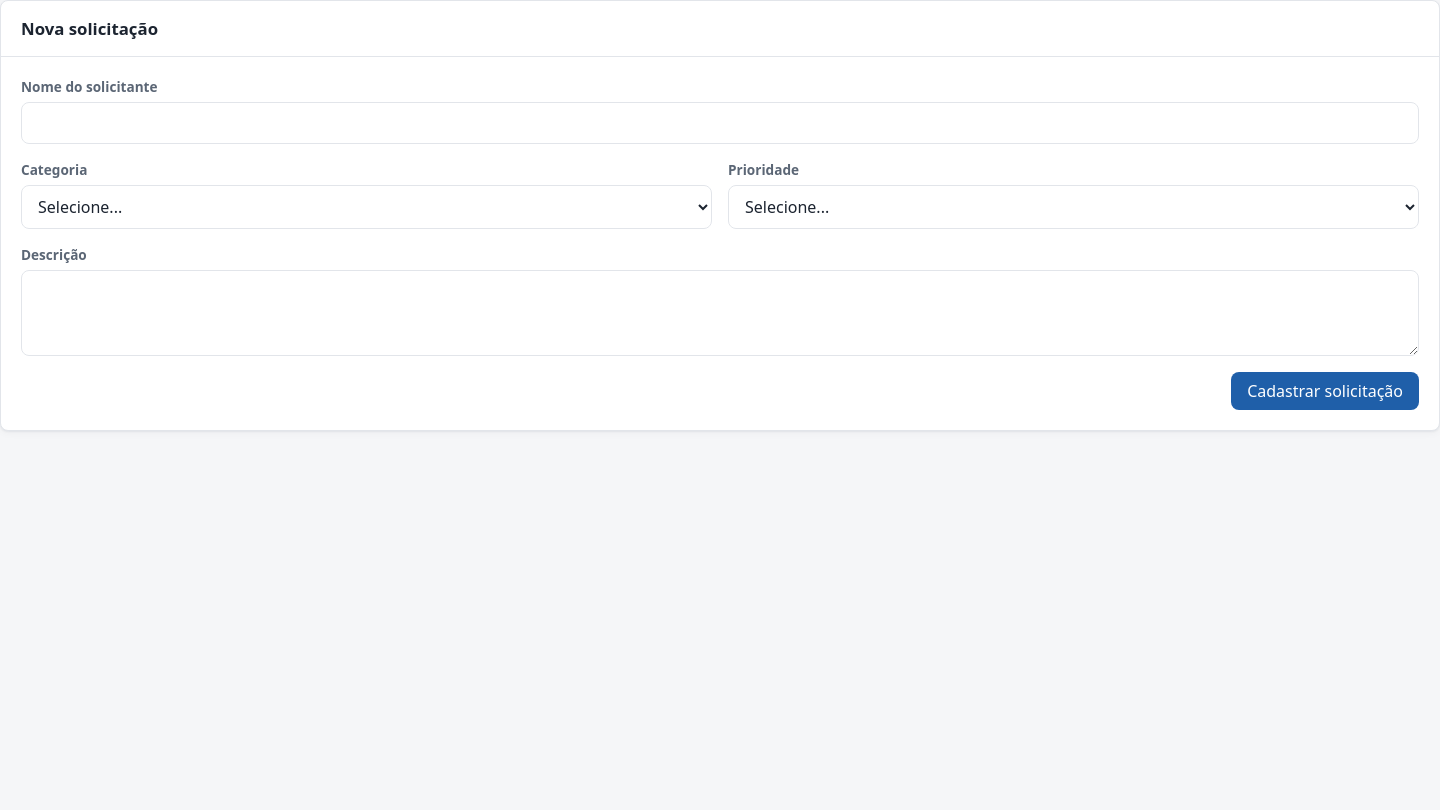
it: FormularioSolicitacao › exige justificativa quando a prioridade e urgente
In the field labelled "Nome do solicitante": (720, 123) x1=21 y1=102 x2=1419 y2=144, type "Maria Ficticia"
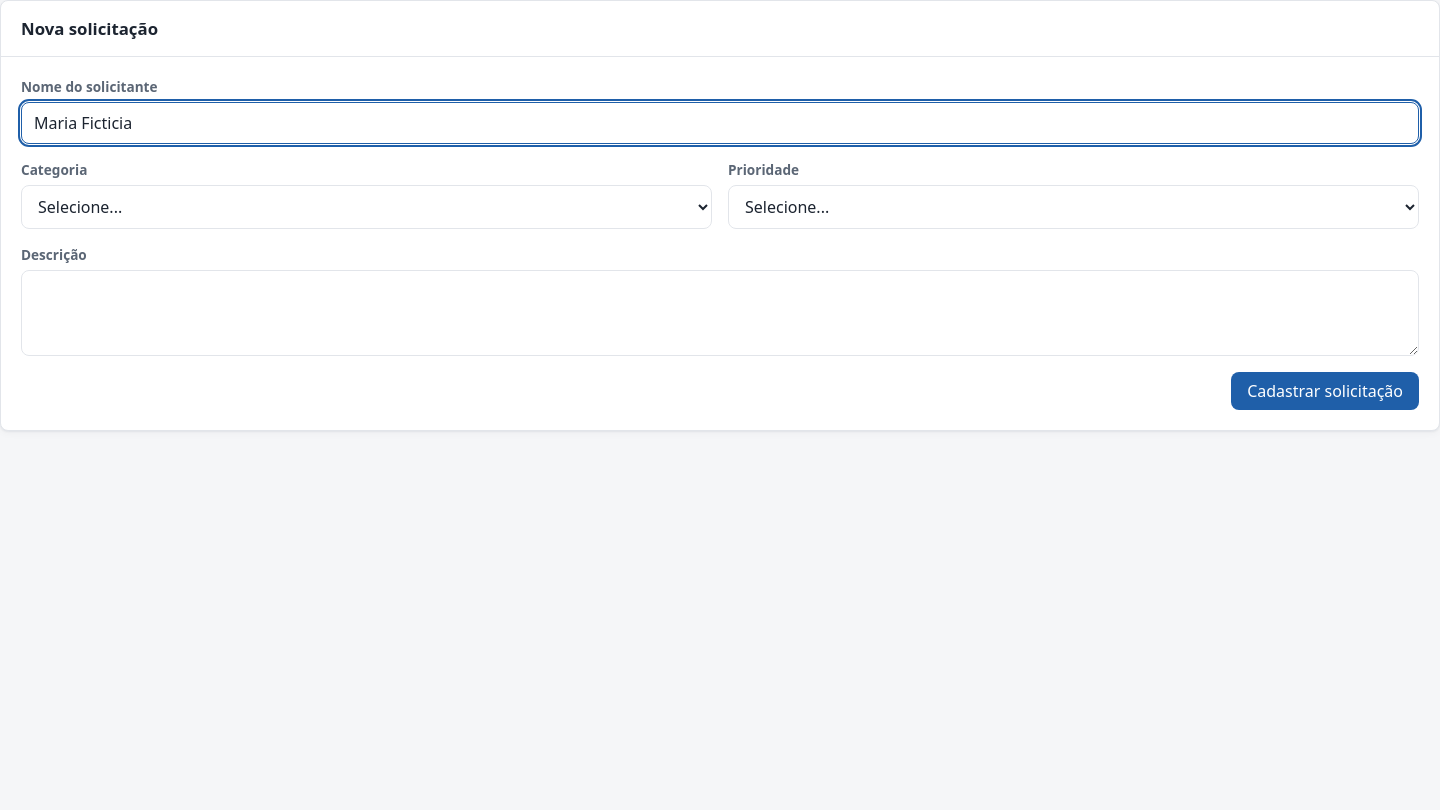
Select "Exame" in the dropdown labelled "Categoria": (366, 207) x1=21 y1=185 x2=712 y2=229
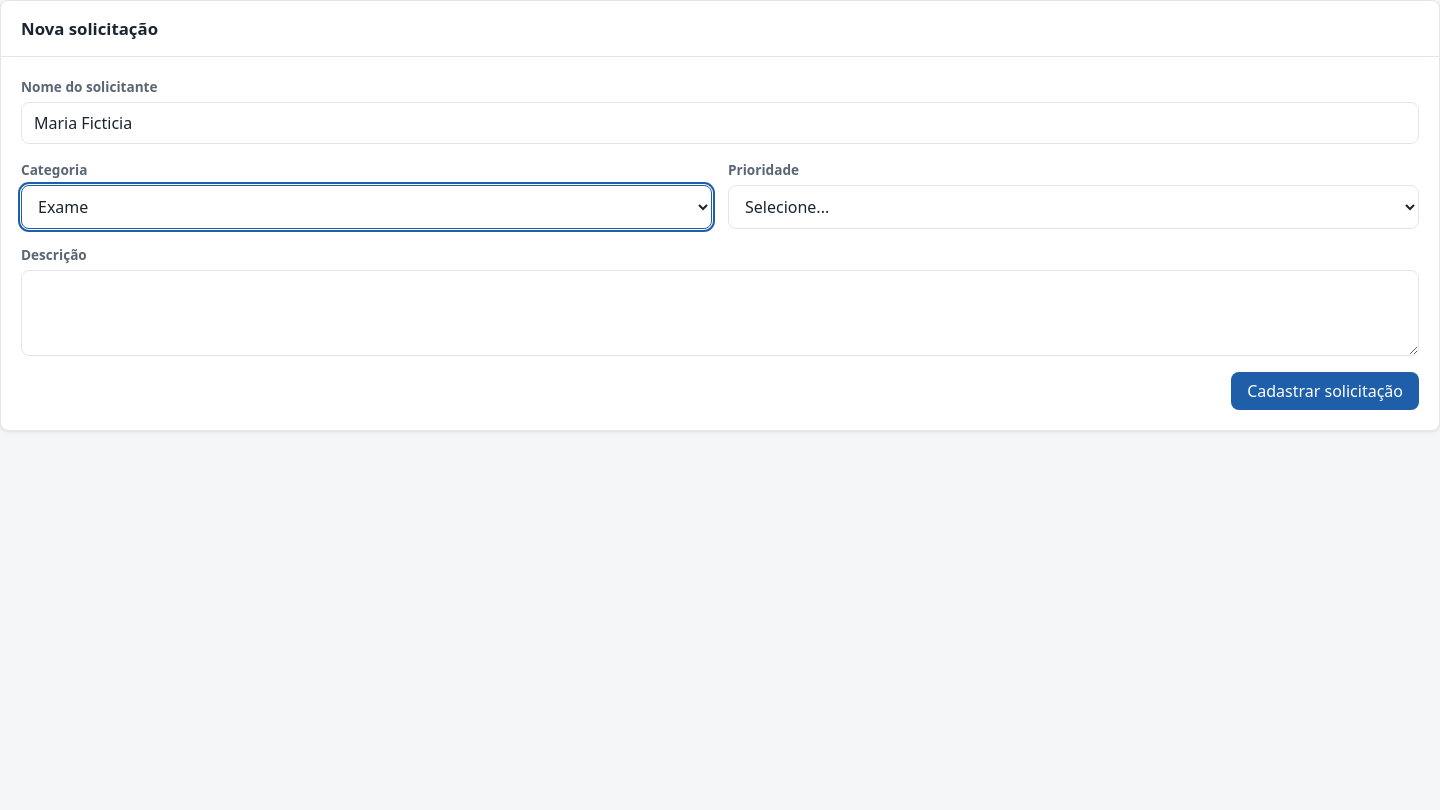
Select "Urgente" in the dropdown labelled "Prioridade": (1074, 207) x1=728 y1=185 x2=1419 y2=229
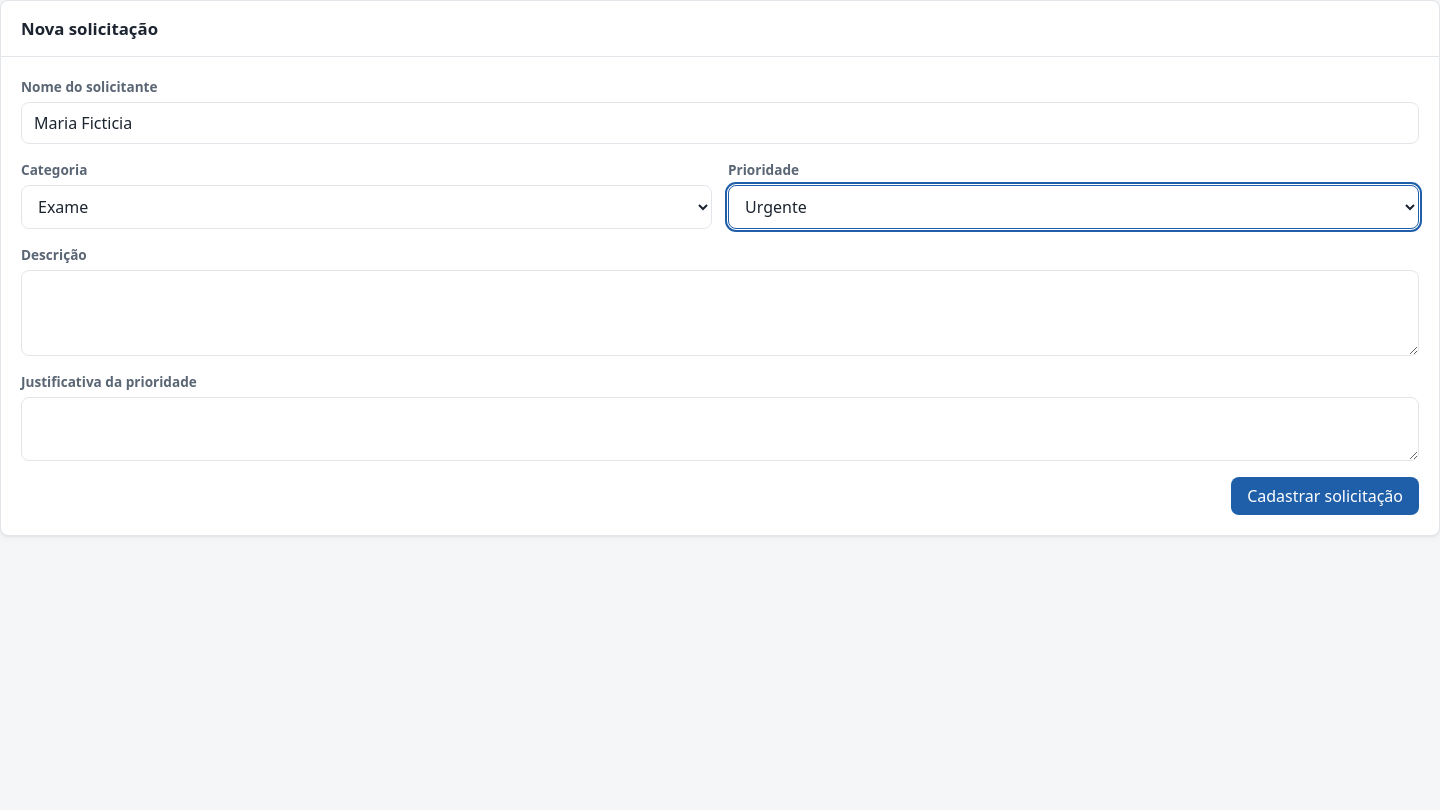
In the text box labelled "Descrição": (720, 313) x1=21 y1=270 x2=1419 y2=356, type "Exame com urgencia."
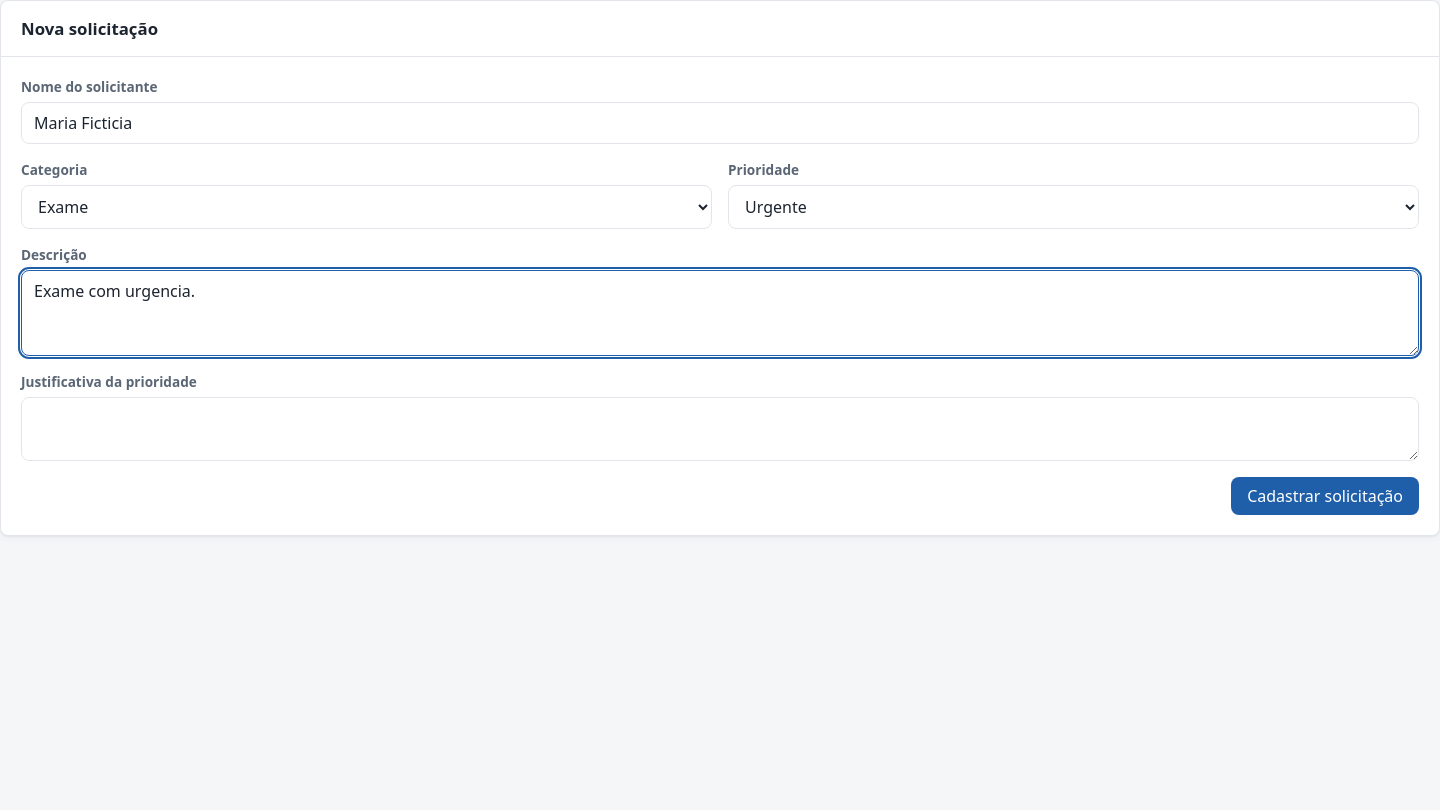
Click the button "Cadastrar solicitação": (1325, 496) x1=1231 y1=477 x2=1419 y2=515
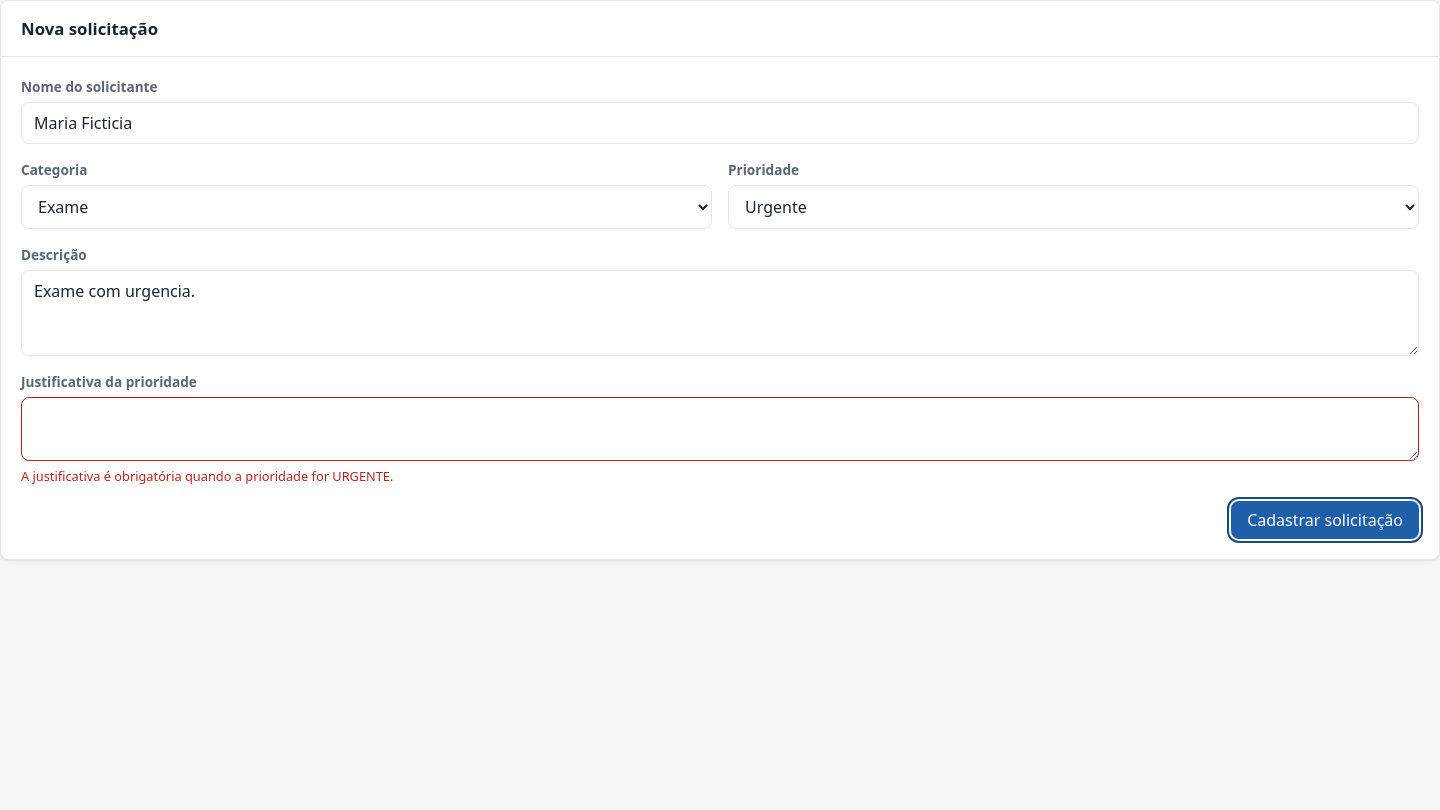
Check: the text "justificativa é obrigatória quando a prioridade for URGENTE" is shown, box x1=21 y1=467 x2=393 y2=485
